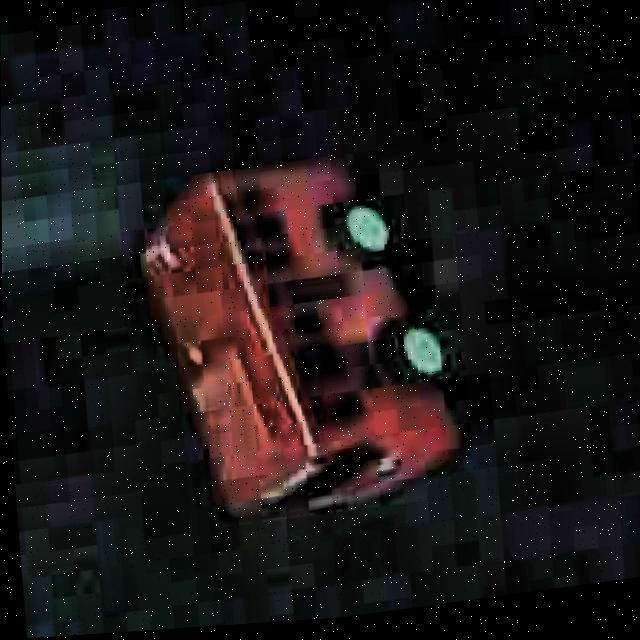bus: (122, 127, 484, 543)
